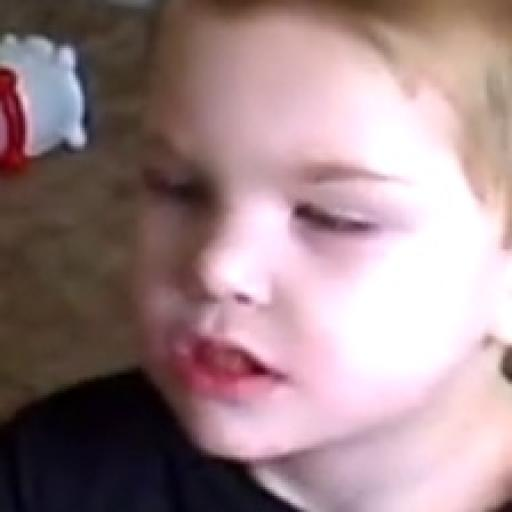Autism: (76, 5, 512, 508)
